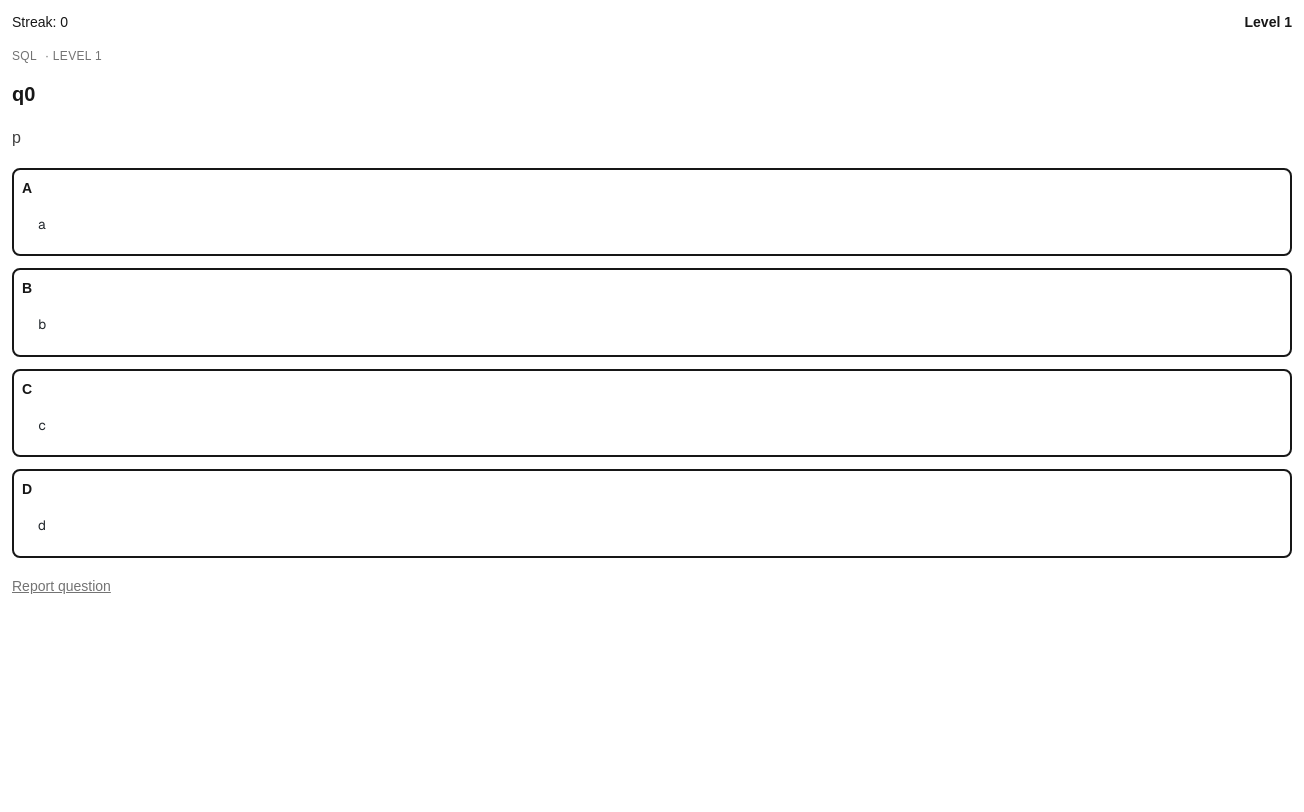
Test: clearing the level ends the run and offers a new run one level up
Expected: the heading "q0" is shown, x1=12 y1=83 x2=35 y2=105
Click the button named "Option" at (652, 212), box x1=12 y1=168 x2=1292 y2=256
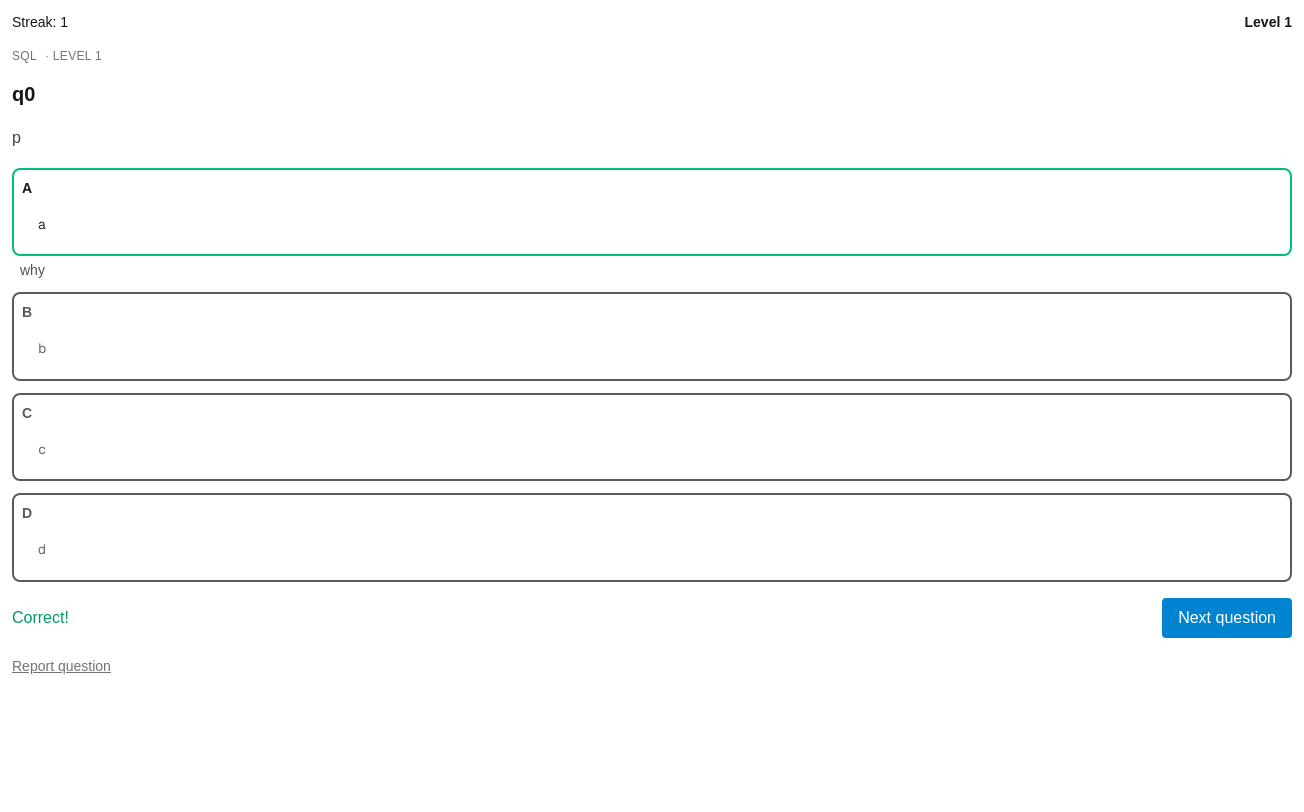
Click the button "Next question" at (1227, 618), box x1=1162 y1=598 x2=1292 y2=638
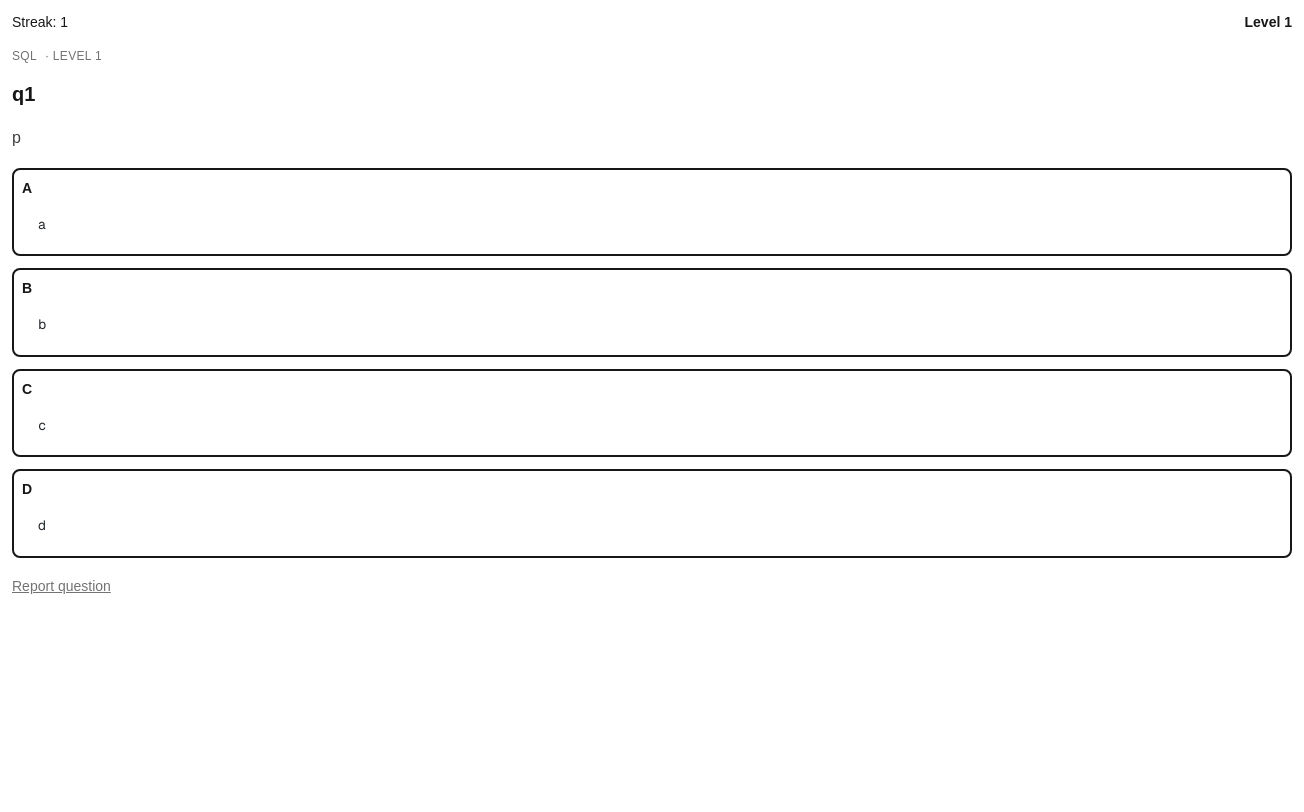
Now the heading "q1" is shown, box x1=12 y1=83 x2=35 y2=105
Click the button named "Option" at (652, 212), box x1=12 y1=168 x2=1292 y2=256
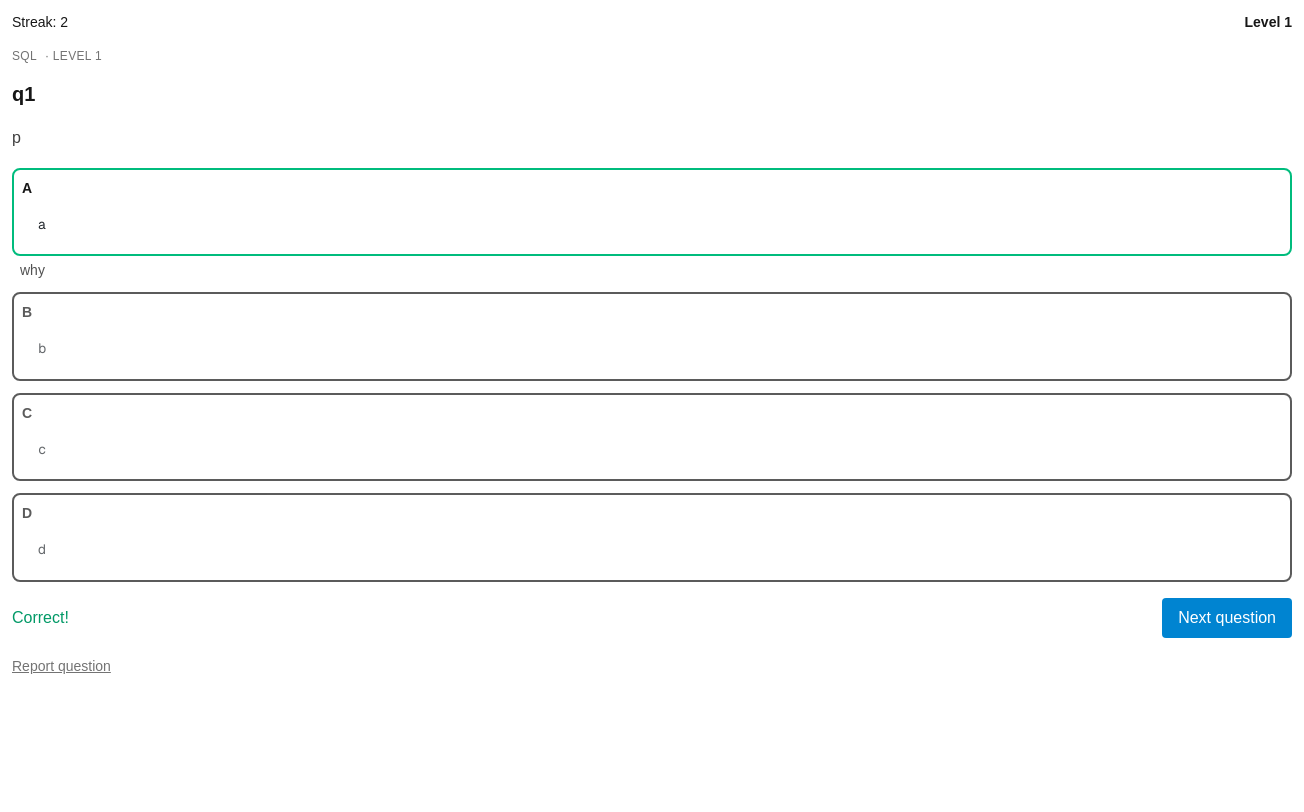
Click the button "Next question" at (1227, 618), box x1=1162 y1=598 x2=1292 y2=638
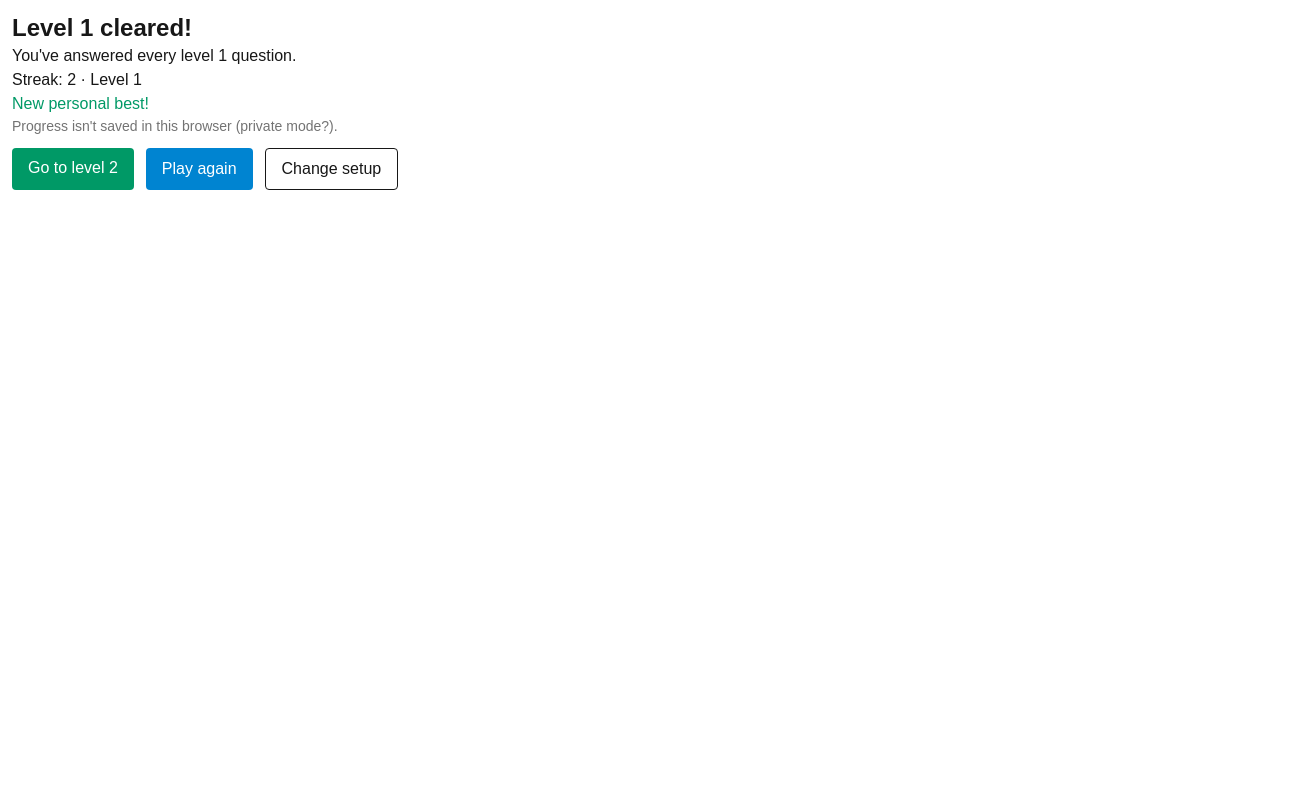
Now the heading "Level 1 cleared!" is shown, box x1=12 y1=14 x2=192 y2=41
